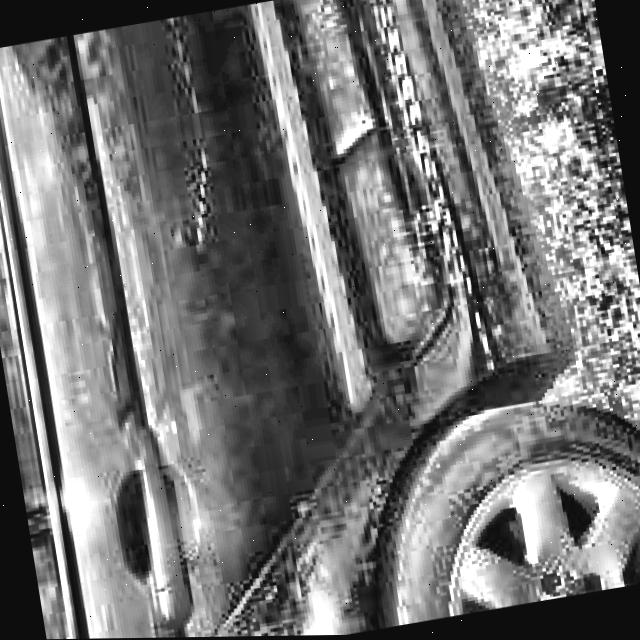door_scratch: (154, 13, 226, 252)
